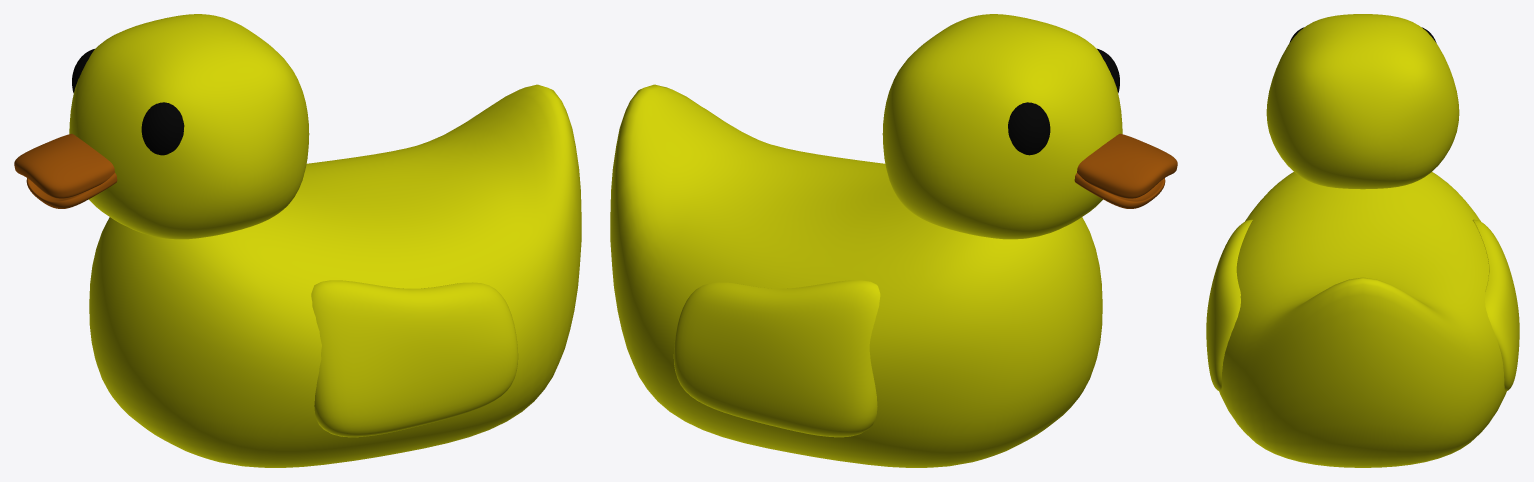
The picture shows the model from 3 angles, left to right: view 1: azimuth 30°, elevation 25°; view 2: azimuth 150°, elevation 25°; view 3: azimuth 270°, elevation 25°; orthographic projection. The views are drawn at different scales.
Visible parts, largest first — view 1: pCube7, pCube8, pSphere2; view 2: pCube7, pCube8, pSphere1; view 3: pCube7.
Boxes of the visible parts, x1,y1,x2,y2 form: pCube7: [69, 14, 581, 467]; pCube8: [14, 133, 117, 208]; pSphere2: [141, 102, 184, 155]; pCube7: [610, 14, 1122, 467]; pCube8: [1074, 133, 1177, 208]; pSphere1: [1008, 102, 1050, 155]; pCube7: [1206, 14, 1519, 467].
Bounding box in the file's own units: 2.68 × 2.04 × 1.71.
